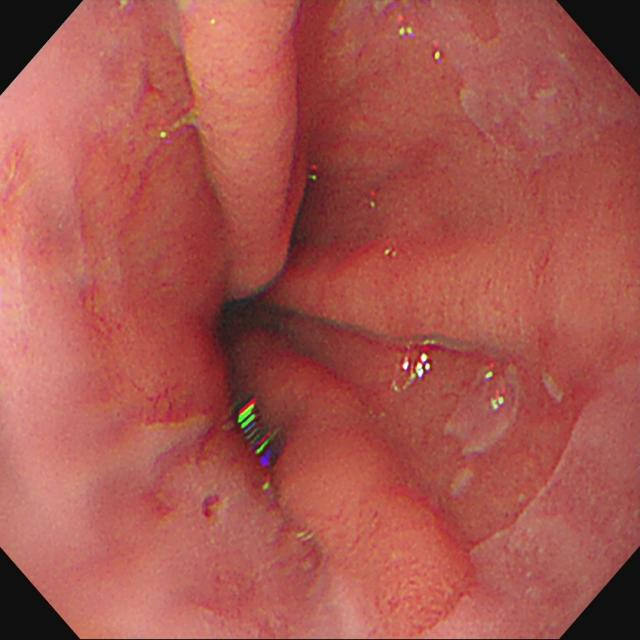I: (150, 146, 426, 523)
T: (469, 357, 515, 413)
U: (237, 398, 276, 466), (398, 349, 434, 380)
